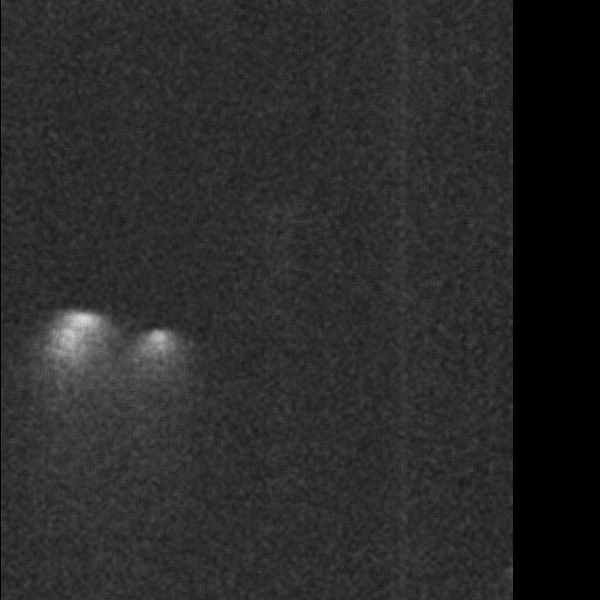spark: (124, 326, 192, 433), (49, 311, 107, 363)
